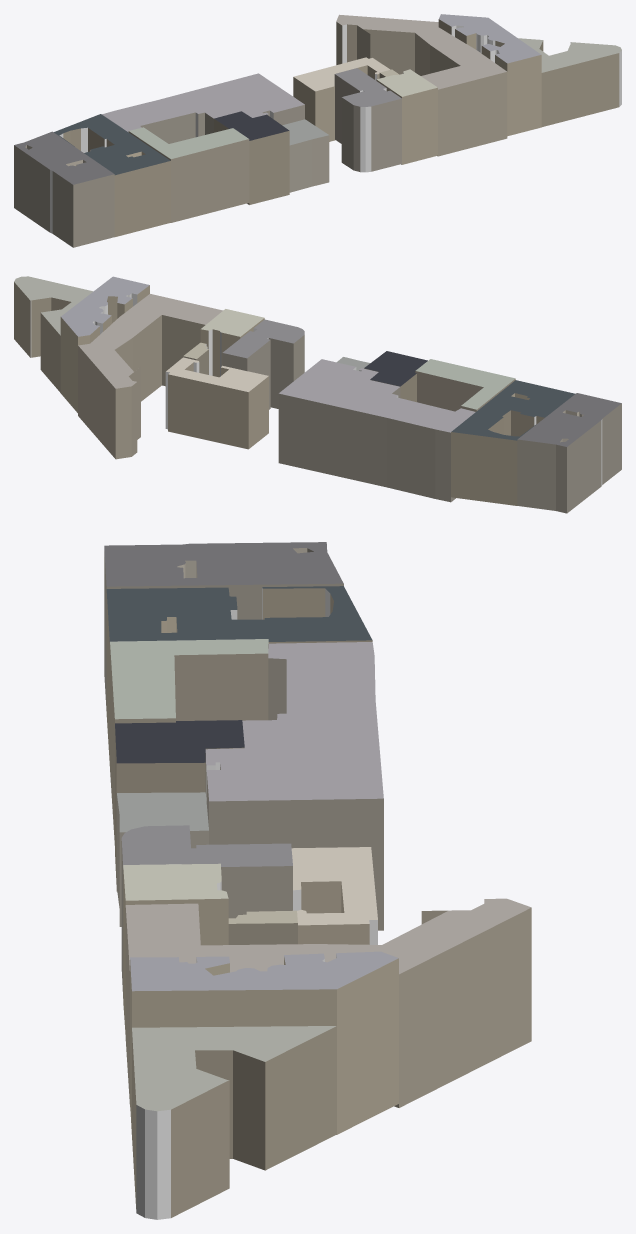
The picture shows the model from 3 angles, top to bottom: view 1: azimuth 30°, elevation 25°; view 2: azimuth 150°, elevation 25°; view 3: azimuth 270°, elevation 25°; orthographic projection. The views are drawn at different scales.
Visible parts, largest first — view 1: tuile; view 2: tuile; view 3: tuile.
Part boxes in pixels (box(x1,y1,x2,y2)): tuile: box(14, 14, 621, 247); tuile: box(14, 276, 621, 513); tuile: box(104, 542, 531, 1219).
Size of the model in its own units: 267 by 34.81 by 87.59.
